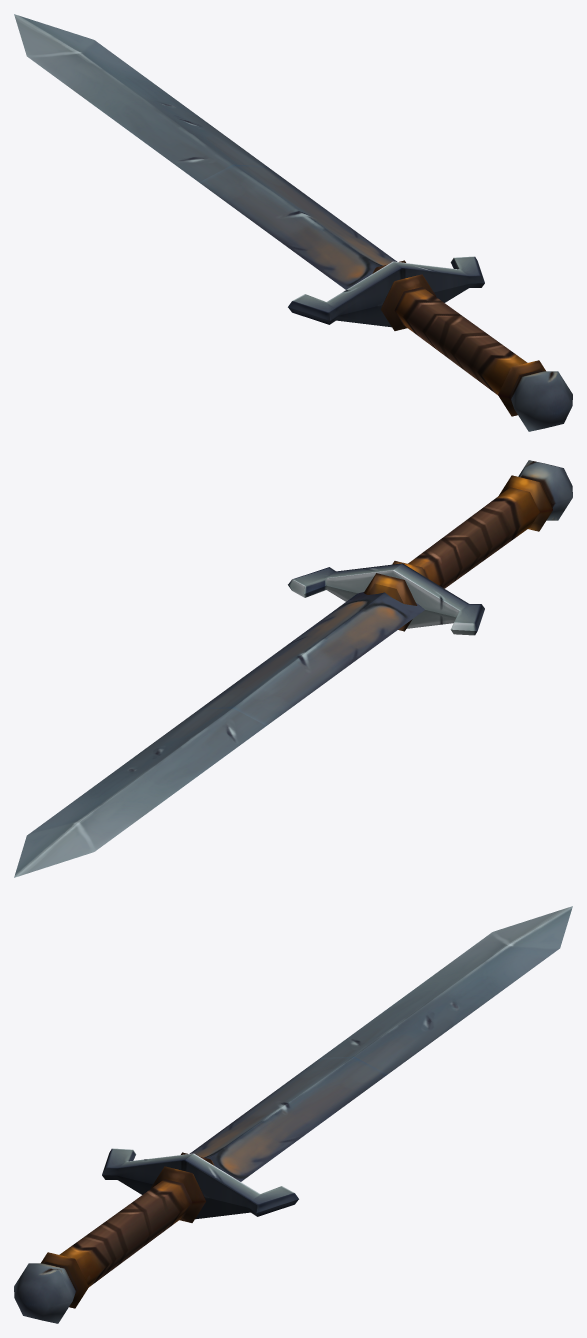
Rendered from Sword_05.fbx.
3 renders of one model, top to bottom at view 1: azimuth 30°, elevation 25°; view 2: azimuth 150°, elevation 25°; view 3: azimuth 330°, elevation 25°, orthographic.
Parts seen in each view (by area): view 1: Sword05_el1, Sword05_el3, Sword05_el2; view 2: Sword05_el1, Sword05_el3, Sword05_el2; view 3: Sword05_el1, Sword05_el3, Sword05_el2.
Boxes of the visible parts, x1,y1,x2,y2 form: Sword05_el1: [14, 14, 397, 289]; Sword05_el3: [381, 274, 572, 431]; Sword05_el2: [288, 256, 484, 327]; Sword05_el1: [14, 592, 424, 877]; Sword05_el3: [392, 460, 572, 588]; Sword05_el2: [288, 563, 484, 635]; Sword05_el1: [189, 906, 572, 1181]; Sword05_el3: [14, 1166, 205, 1323]; Sword05_el2: [102, 1148, 298, 1219].
Size of the model in its own units: 0.31 by 0.0937 by 1.54.
